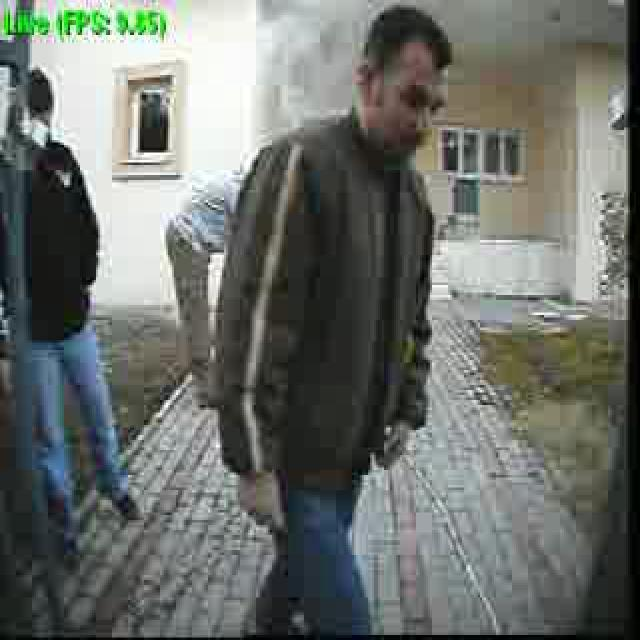Smoke: (258, 18, 348, 98)
